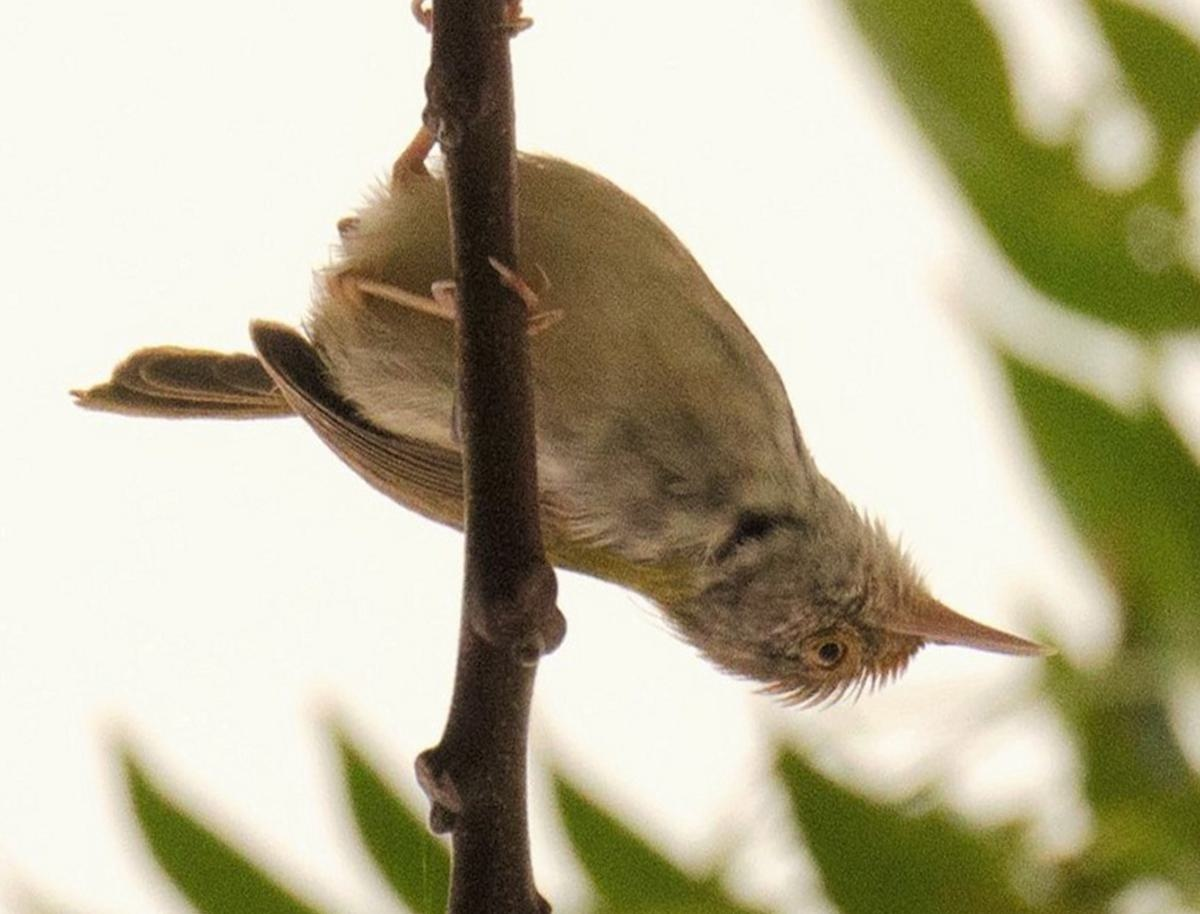tailorbird: (97, 127, 1074, 730)
